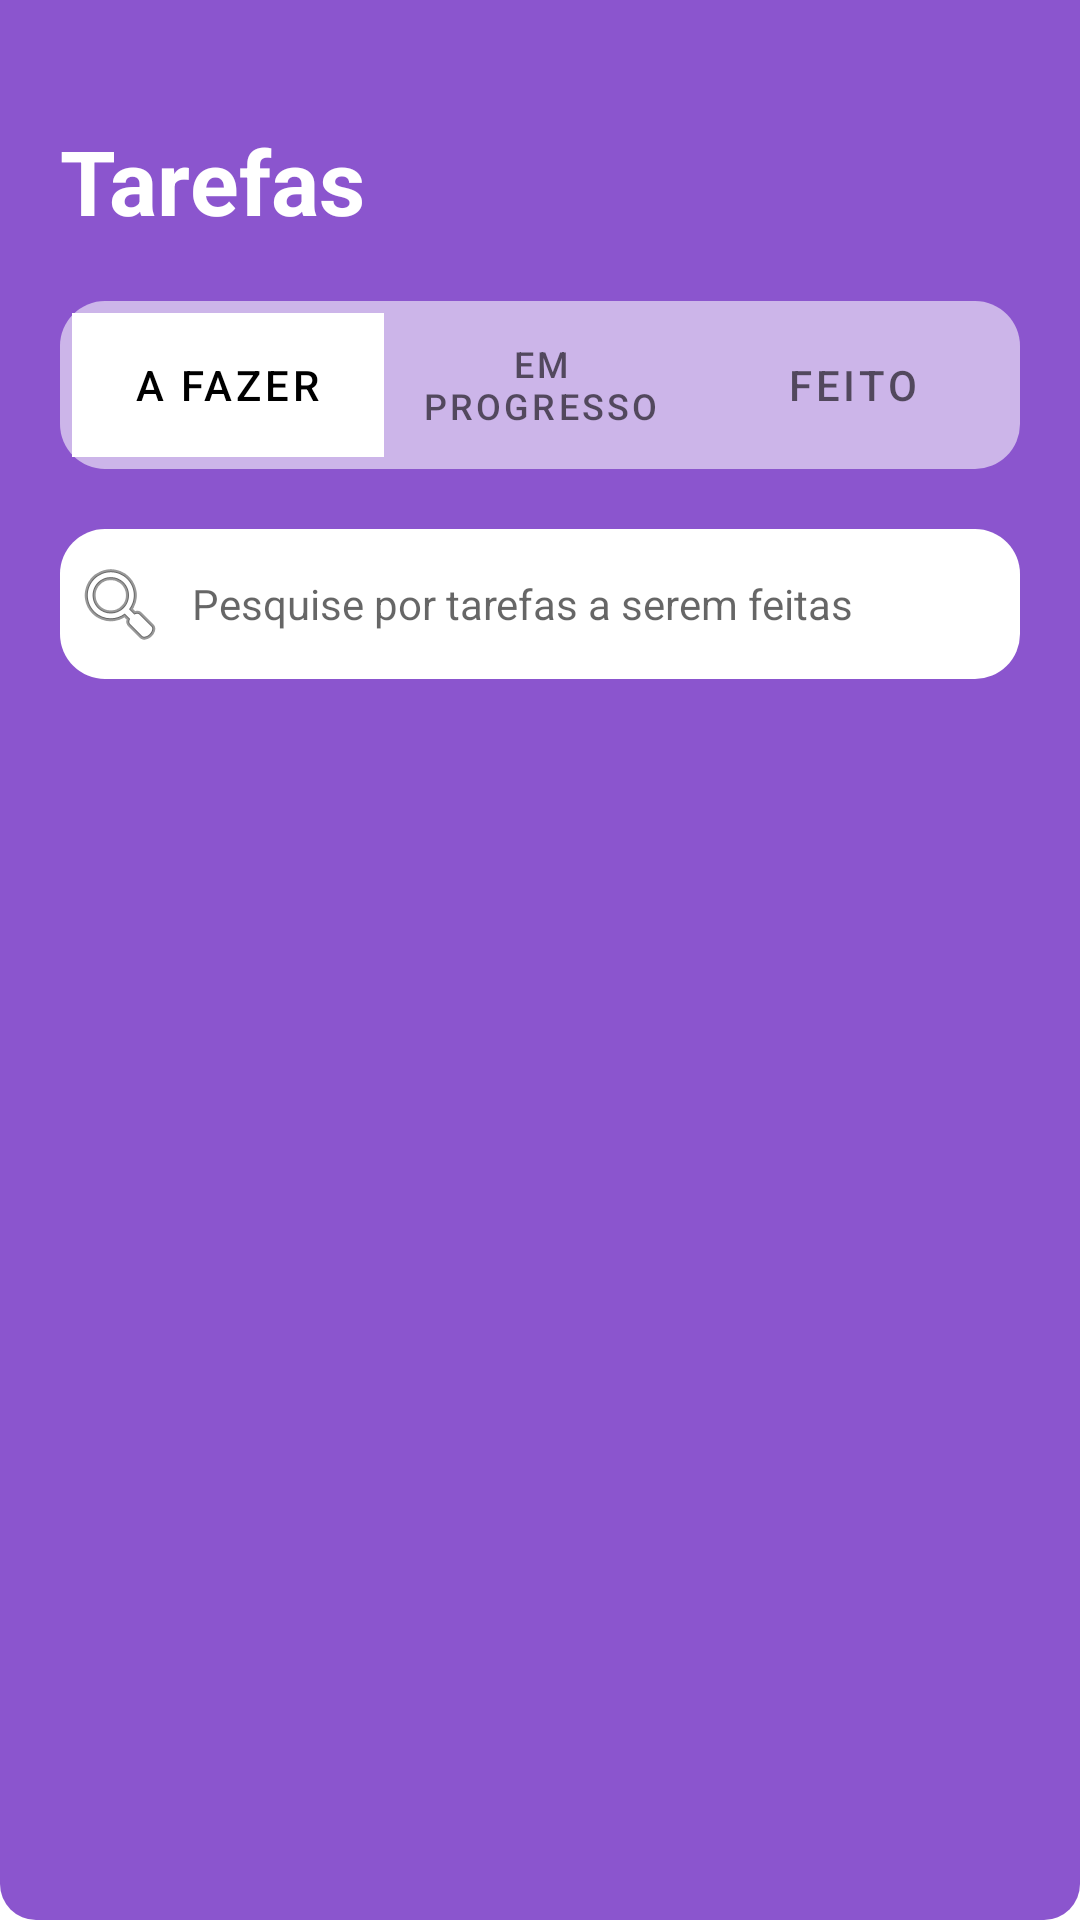

Named icons in this screenshot (1080px x 1920px) and their bounding boxes, (x1, y1, x2, y2):
Pesquisar: (84, 569, 156, 640)
